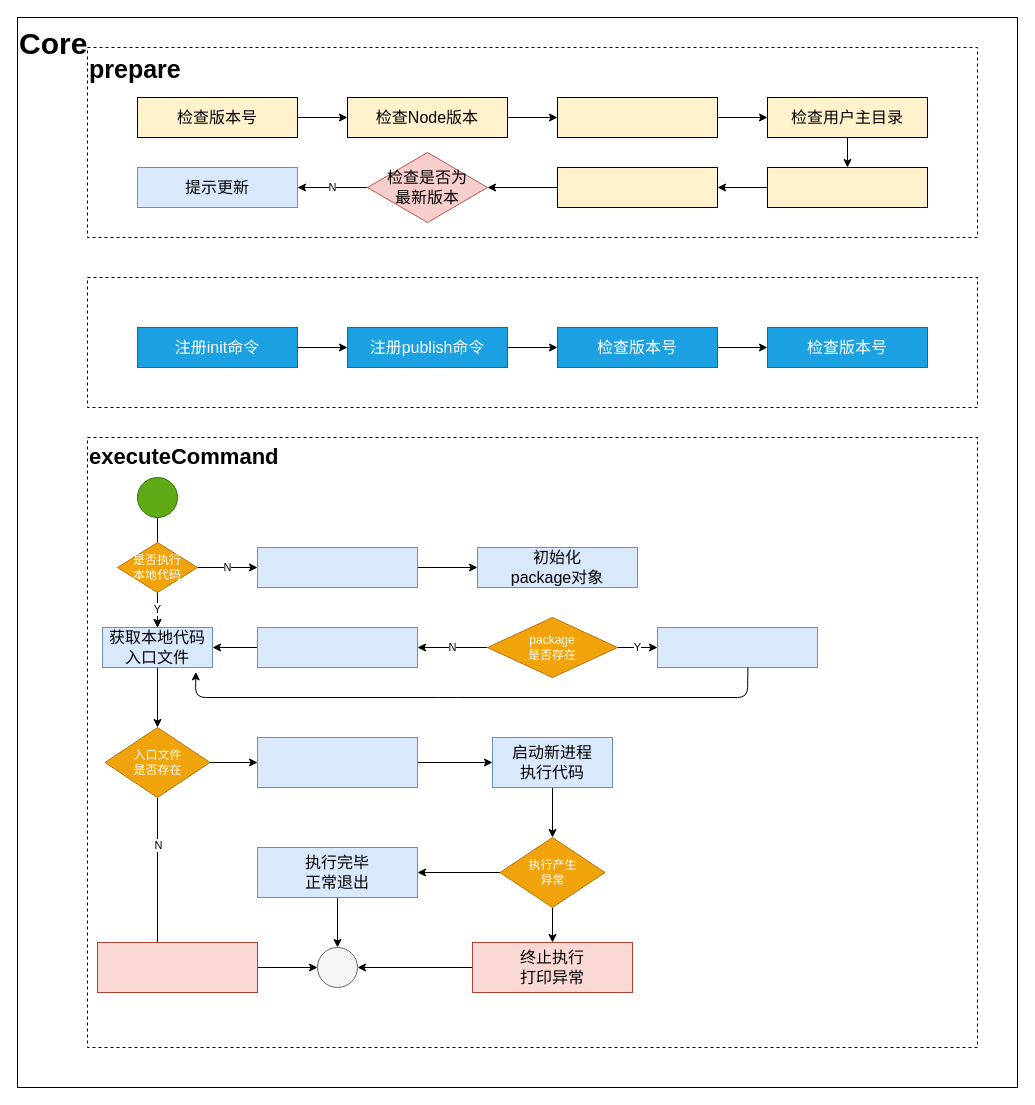
This 1035x1105 diagram has some shape labels left out. Here are the shapes that lost their labels. From the top down, the box of each, then its label:
(556, 96, 718, 138): 检查root启动
(556, 166, 718, 208): 检查环境变量
(766, 166, 928, 208): 检查入参
(86, 276, 978, 408): RegisterCommad
(136, 476, 178, 518): start
(256, 546, 418, 588): 获取缓存目录
(256, 626, 418, 668): 安装package
(656, 626, 818, 668): 更新package
(256, 736, 418, 788): 生成指令 执行代码
(96, 942, 258, 992): 终止执行
(316, 946, 358, 988): end
